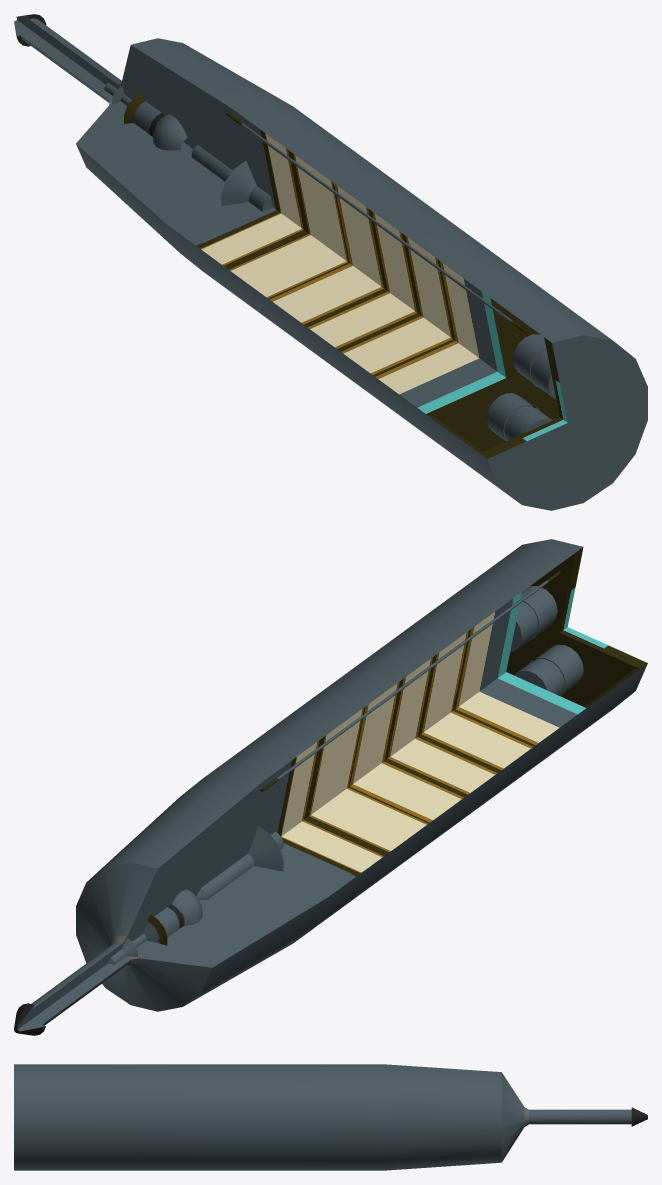
Rendered from ЗУР-ОГС_Р.fbx.
3 views of the same model, one above another, from view 1: azimuth 30°, elevation 25°; view 2: azimuth 150°, elevation 25°; view 3: azimuth 270°, elevation 25° (orthographic). The views are drawn at different scales.
Parts seen in each view (by area): view 1: Circle.010; view 2: Circle.010; view 3: Circle.010.
Part boxes in pixels (<box>): Circle.010: <box>14,14,647,510</box>; Circle.010: <box>14,539,647,1035</box>; Circle.010: <box>14,1064,647,1170</box>.
Bounding box in the file's own units: 58.26 × 58.27 × 346.
Materials: 1 (1 with a texture image).
